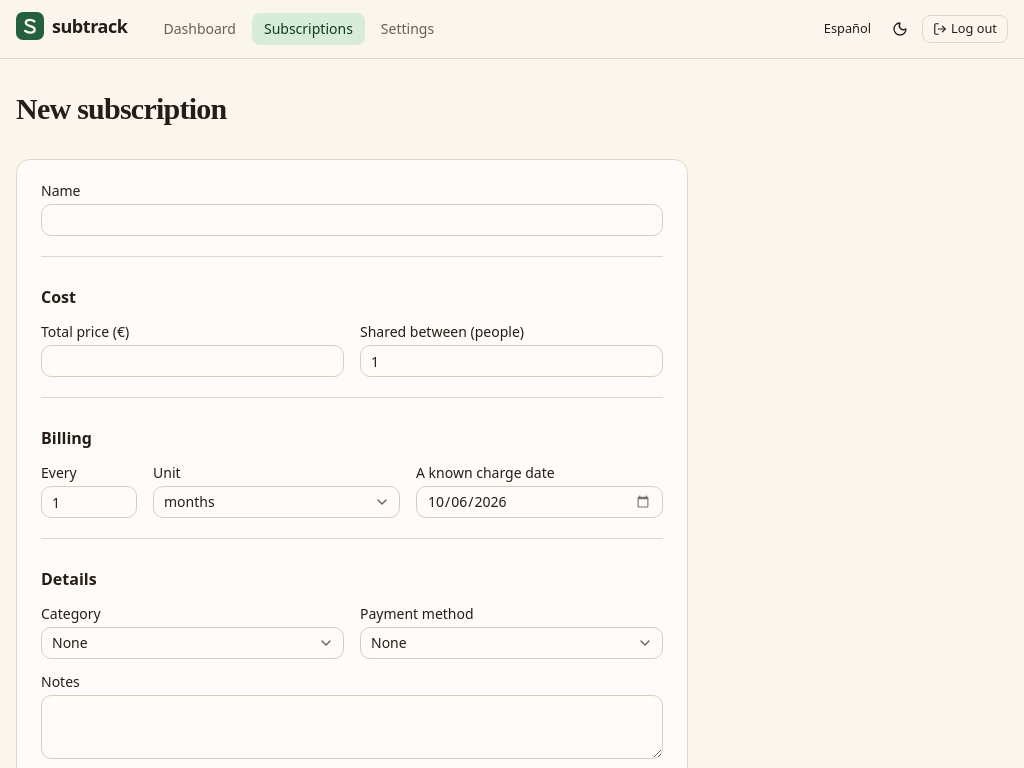
it: shows translated server errors under each field
The image size is (1024, 768).
Type "Netflix" into the field labelled "Name". click: point(352, 220)
box: [41,204,663,236]
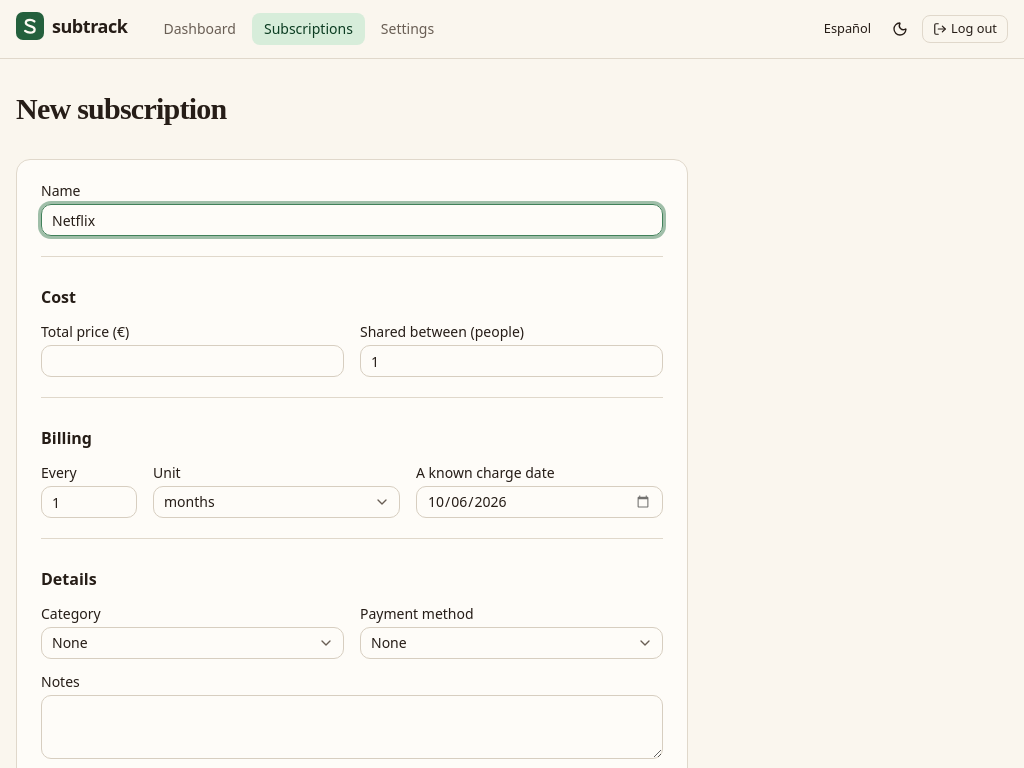
Type "15.99" into the number field labelled "Total price (€)". click: point(192, 361)
box: [41,345,344,377]
(page scrolled)
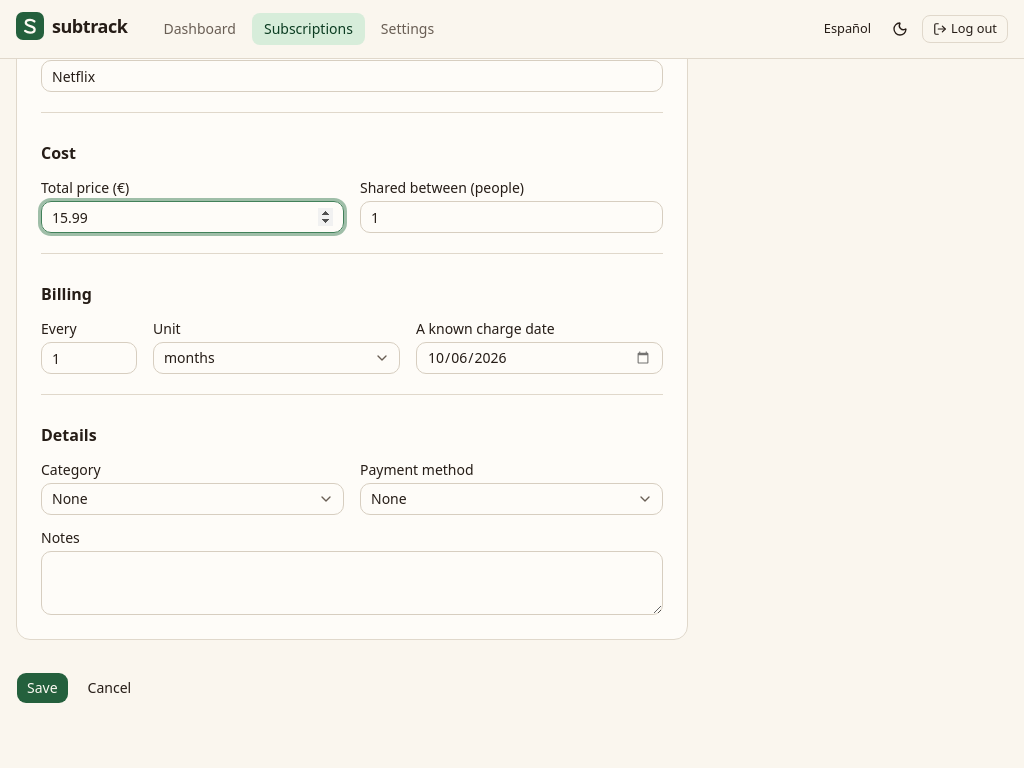
Click the button "Save". click: point(42, 688)
box: [16,672,69,704]
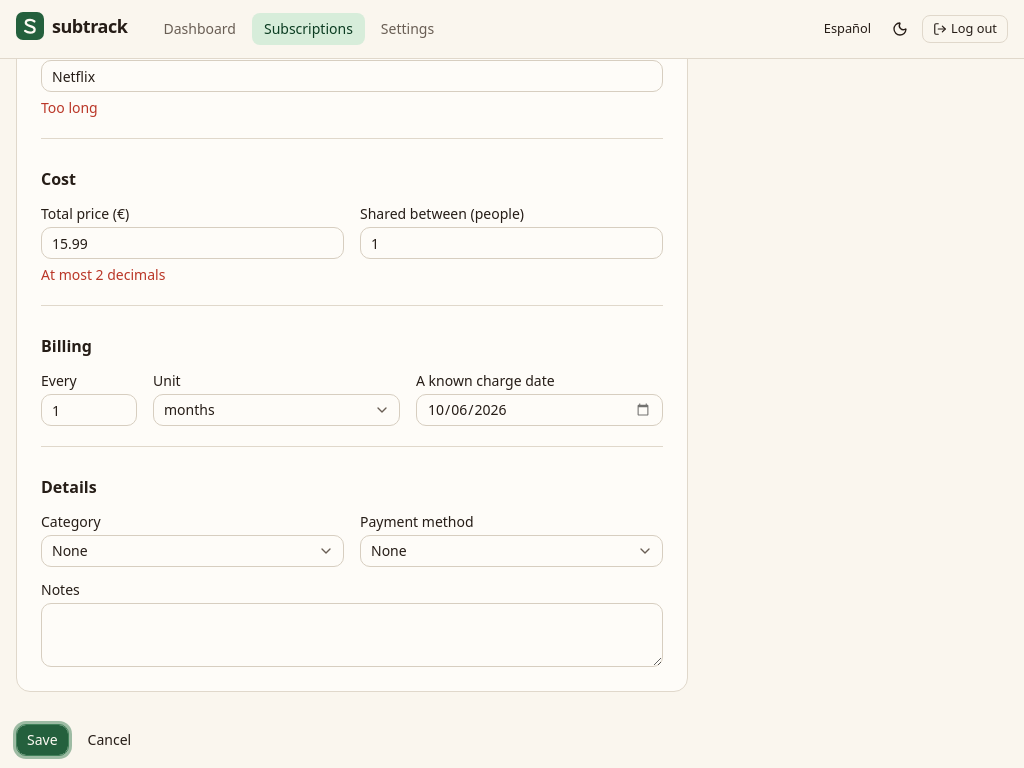
Now the text "Too long" is shown, box [41,98,98,117]
Now the text "At most 2 decimals" is shown, box [41,265,165,284]
